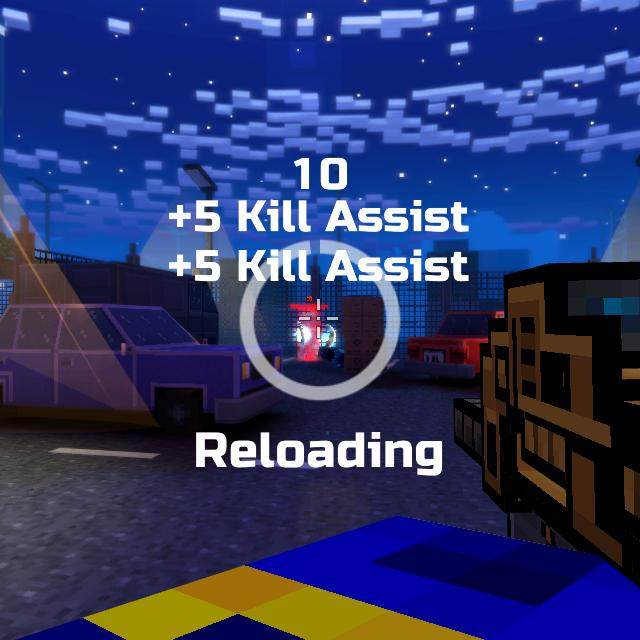Enemy: (297, 313, 323, 361)
